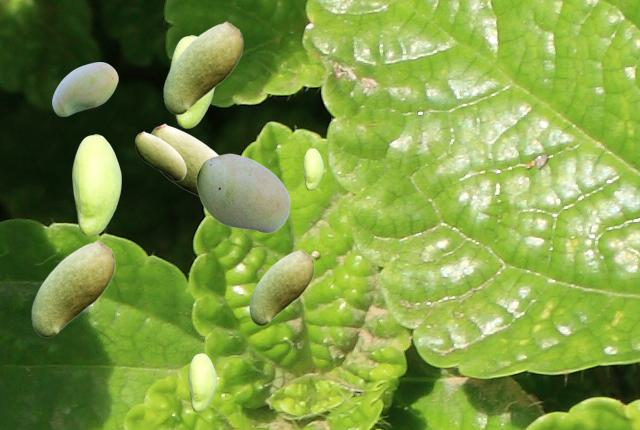green_mango: (31, 240, 114, 336), (196, 153, 289, 232), (163, 21, 242, 113), (151, 123, 218, 196), (72, 134, 120, 235), (249, 249, 313, 324), (170, 35, 214, 127), (52, 62, 117, 115), (135, 131, 185, 180), (188, 353, 215, 411), (303, 148, 322, 189)
